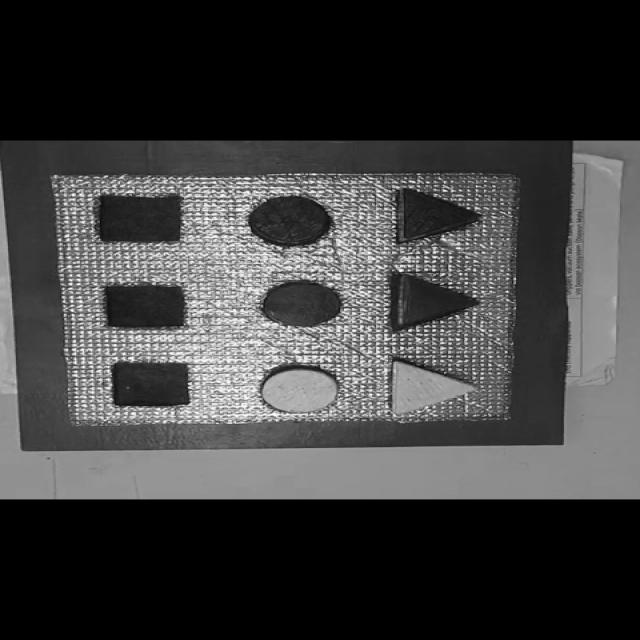bcircle: (248, 196, 332, 246)
btriangle: (394, 187, 483, 245)
mtcube: (96, 194, 186, 244), (103, 284, 189, 329), (112, 361, 193, 407)
rcircle: (257, 280, 347, 328)
rtriangle: (391, 272, 482, 330)
wb: (49, 171, 524, 427)
ycircle: (257, 364, 343, 414)
ytriangle: (388, 358, 480, 415)
